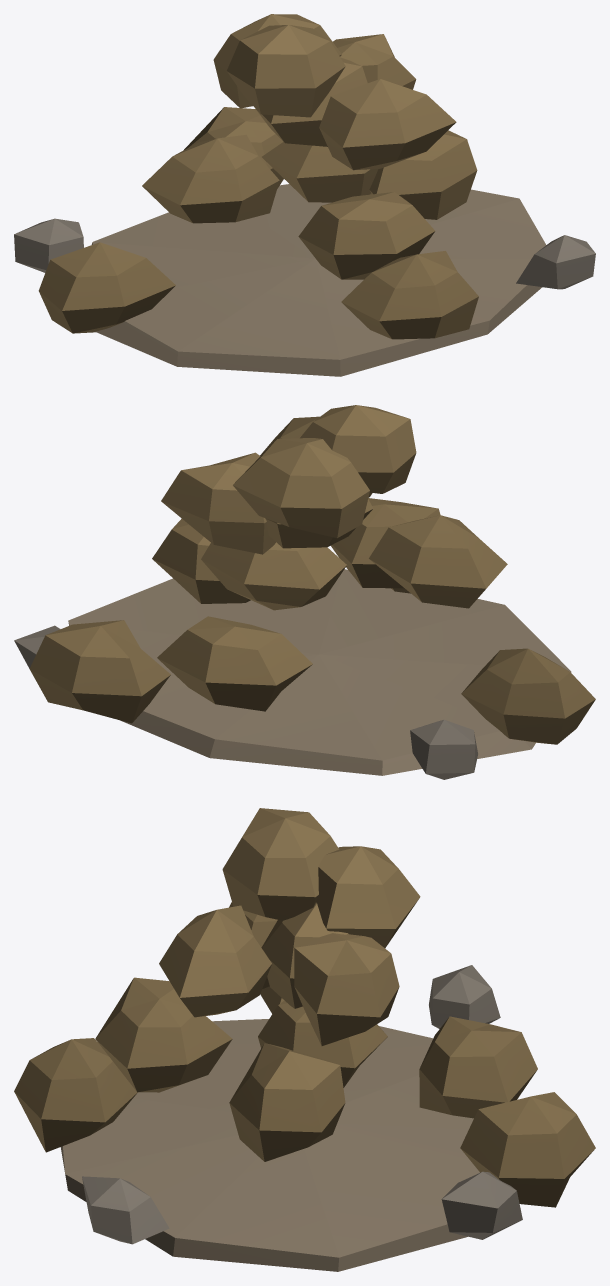
File: caral_shicra_stack_lod0.glb
3 views of the same model, one above another, from view 1: azimuth 30°, elevation 25°; view 2: azimuth 150°, elevation 25°; view 3: azimuth 270°, elevation 25° (orthographic). The views are drawn at different scales.
Visible parts, largest first — view 1: GEO-Arch_shicra_stack_LOD0; view 2: GEO-Arch_shicra_stack_LOD0; view 3: GEO-Arch_shicra_stack_LOD0.
Boxes of the visible parts, box(x1,y1,x2,y2) form: GEO-Arch_shicra_stack_LOD0: box(14, 14, 595, 376); GEO-Arch_shicra_stack_LOD0: box(14, 405, 595, 779); GEO-Arch_shicra_stack_LOD0: box(14, 808, 595, 1271).
Bounding box in the file's own units: 2.78 × 1.51 × 2.49.
